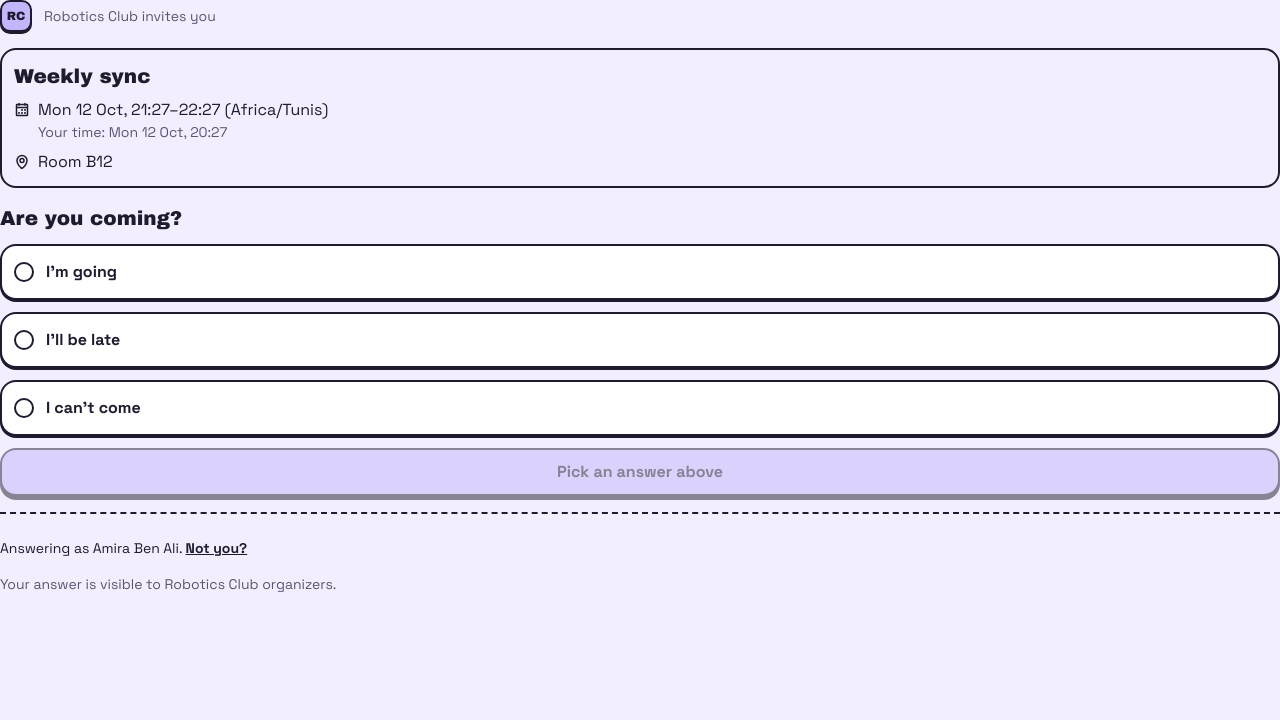
Scenario: AnswerView › explains that the link is personal
This screenshot has width=1280, height=720.
Click the button "Not you?": (216, 548) [186,526,247,570]
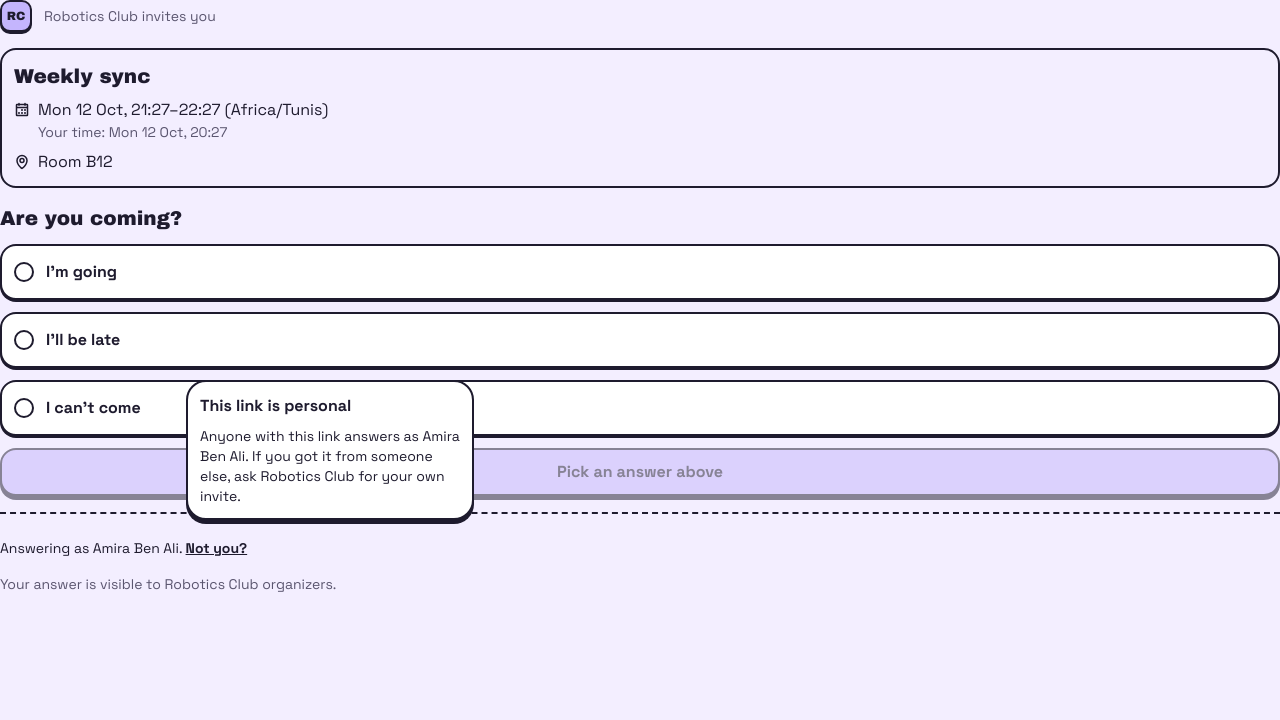
Expected: the text "This link is personal" is shown, [200,395,351,416]
